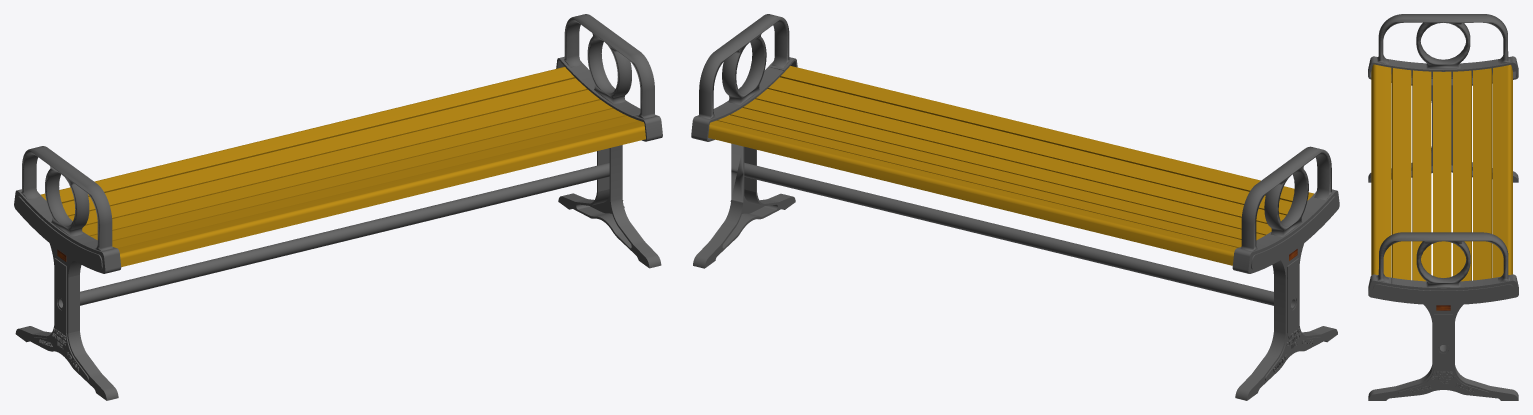
3 views of the same model, side by side, from view 1: azimuth 30°, elevation 25°; view 2: azimuth 150°, elevation 25°; view 3: azimuth 270°, elevation 25° (orthographic). The views are drawn at different scales.
Parts seen in each view (by area): view 1: mesh3_mesh3-geometry, mesh16_mesh16-geometry, mesh5_mesh5-geometry, mesh1_mesh1-geometry, mesh2_mesh2-geometry, mesh4_mesh4-geometry, mesh20_mesh20-geometry, mesh6_mesh6-geometry, mesh7_mesh7-geometry, mesh18_mesh18-geometry, mesh17_mesh17-geometry, mesh19_mesh19-geometry (+1 smaller); view 2: mesh1_mesh1-geometry, mesh16_mesh16-geometry, mesh7_mesh7-geometry, mesh3_mesh3-geometry, mesh6_mesh6-geometry, mesh4_mesh4-geometry, mesh20_mesh20-geometry, mesh2_mesh2-geometry, mesh5_mesh5-geometry, mesh18_mesh18-geometry, mesh17_mesh17-geometry, mesh19_mesh19-geometry (+1 smaller); view 3: mesh20_mesh20-geometry, mesh7_mesh7-geometry, mesh3_mesh3-geometry, mesh5_mesh5-geometry, mesh1_mesh1-geometry, mesh19_mesh19-geometry, mesh6_mesh6-geometry, mesh4_mesh4-geometry, mesh2_mesh2-geometry, mesh18_mesh18-geometry, mesh15_mesh15-geometry, mesh17_mesh17-geometry.
Boxes of the visible parts, left/top/right/bottom form: mesh3_mesh3-geometry: left=118, top=121, right=645, bottom=266; mesh16_mesh16-geometry: left=57, top=162, right=609, bottom=310; mesh5_mesh5-geometry: left=62, top=78, right=587, bottom=216; mesh1_mesh1-geometry: left=41, top=67, right=575, bottom=203; mesh2_mesh2-geometry: left=68, top=90, right=600, bottom=225; mesh4_mesh4-geometry: left=82, top=100, right=613, bottom=236; mesh20_mesh20-geometry: left=556, top=14, right=662, bottom=141; mesh6_mesh6-geometry: left=90, top=108, right=626, bottom=241; mesh7_mesh7-geometry: left=112, top=116, right=640, bottom=248; mesh18_mesh18-geometry: left=21, top=146, right=112, bottom=251; mesh17_mesh17-geometry: left=15, top=243, right=118, bottom=400; mesh19_mesh19-geometry: left=558, top=145, right=661, bottom=268; mesh1_mesh1-geometry: left=708, top=120, right=1237, bottom=265; mesh16_mesh16-geometry: left=744, top=162, right=1296, bottom=310; mesh7_mesh7-geometry: left=767, top=77, right=1291, bottom=215; mesh3_mesh3-geometry: left=780, top=66, right=1313, bottom=201; mesh6_mesh6-geometry: left=755, top=89, right=1285, bottom=223; mesh4_mesh4-geometry: left=742, top=99, right=1271, bottom=235; mesh20_mesh20-geometry: left=691, top=14, right=797, bottom=141; mesh2_mesh2-geometry: left=730, top=107, right=1264, bottom=240; mesh5_mesh5-geometry: left=717, top=115, right=1241, bottom=247; mesh18_mesh18-geometry: left=1240, top=146, right=1332, bottom=251; mesh17_mesh17-geometry: left=1235, top=244, right=1337, bottom=400; mesh19_mesh19-geometry: left=693, top=143, right=795, bottom=268; mesh20_mesh20-geometry: left=1368, top=232, right=1518, bottom=304; mesh7_mesh7-geometry: left=1391, top=68, right=1411, bottom=279; mesh3_mesh3-geometry: left=1371, top=64, right=1391, bottom=277; mesh5_mesh5-geometry: left=1473, top=68, right=1492, bottom=280; mesh1_mesh1-geometry: left=1493, top=65, right=1512, bottom=277; mesh19_mesh19-geometry: left=1368, top=304, right=1518, bottom=400; mesh6_mesh6-geometry: left=1412, top=70, right=1431, bottom=281; mesh4_mesh4-geometry: left=1433, top=71, right=1451, bottom=277; mesh2_mesh2-geometry: left=1453, top=70, right=1471, bottom=281; mesh18_mesh18-geometry: left=1377, top=14, right=1510, bottom=68; mesh15_mesh15-geometry: left=1368, top=56, right=1518, bottom=86; mesh17_mesh17-geometry: left=1368, top=87, right=1518, bottom=182.
Size of the model in its own units: 0.9147 by 0.3102 by 0.2591.
